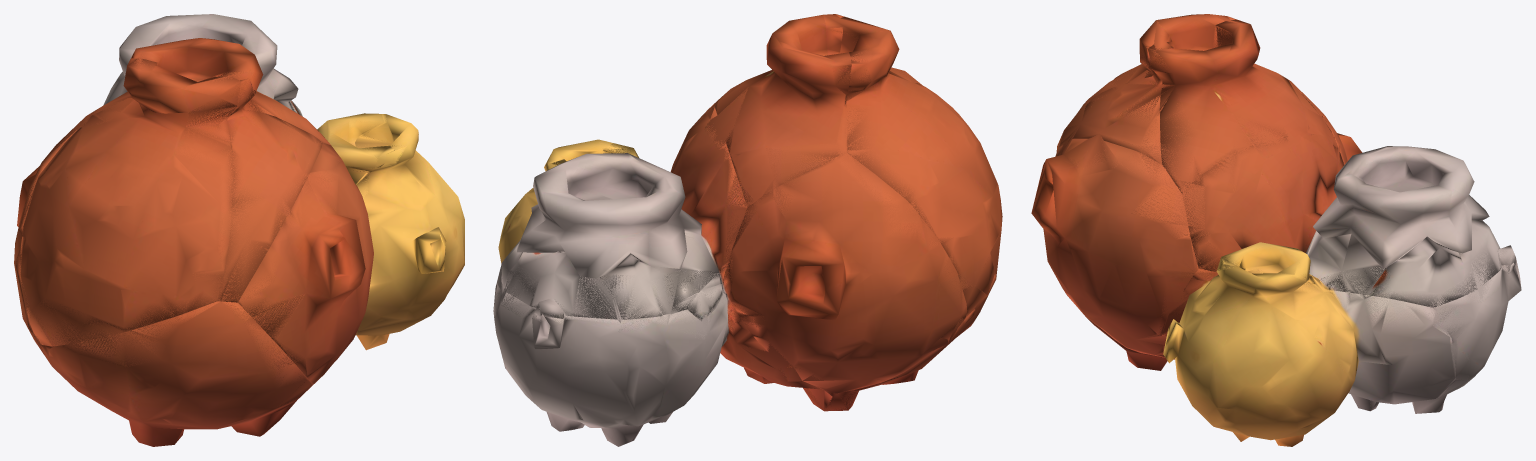
Rendered from cr_pots-CMSFDe7g.glb.
3 views of the same model, side by side, from view 1: azimuth 30°, elevation 25°; view 2: azimuth 150°, elevation 25°; view 3: azimuth 270°, elevation 25° (orthographic). The views are drawn at different scales.
Visible parts, largest first — view 1: frag_0, frag_5, frag_7, whole, frag_8, frag_1, frag_3, frag_4, frag_6; view 2: frag_6, frag_3, frag_2, frag_0, whole, frag_4, frag_8, frag_5; view 3: frag_3, frag_8, frag_7, whole, frag_4, frag_2, frag_1, frag_0, frag_5, frag_6.
Part boxes in pixels (x1=…): frag_0: x1=19, y1=58, x2=240, y2=346; frag_5: x1=41, y1=301, x2=311, y2=446; frag_7: x1=238, y1=142, x2=373, y2=385; whole: x1=14, y1=51, x2=407, y2=406; frag_8: x1=355, y1=114, x2=464, y2=350; frag_1: x1=217, y1=78, x2=322, y2=302; frag_3: x1=103, y1=14, x2=394, y2=184; frag_4: x1=89, y1=38, x2=330, y2=145; frag_6: x1=14, y1=116, x2=86, y2=354; frag_6: x1=687, y1=154, x2=967, y2=394; frag_3: x1=501, y1=104, x2=747, y2=319; frag_2: x1=493, y1=282, x2=833, y2=446; frag_0: x1=840, y1=16, x2=1002, y2=317; whole: x1=493, y1=14, x2=1001, y2=411; frag_4: x1=714, y1=14, x2=851, y2=206; frag_8: x1=493, y1=139, x2=612, y2=368; frag_5: x1=830, y1=274, x2=996, y2=410; frag_3: x1=1184, y1=135, x2=1515, y2=307; frag_8: x1=1162, y1=264, x2=1455, y2=446; frag_7: x1=1031, y1=138, x2=1198, y2=357; whole: x1=1056, y1=14, x2=1516, y2=410; frag_4: x1=1148, y1=19, x2=1337, y2=193; frag_2: x1=1412, y1=262, x2=1521, y2=413; frag_1: x1=1057, y1=46, x2=1162, y2=164; frag_0: x1=1078, y1=14, x2=1236, y2=111; frag_5: x1=1066, y1=294, x2=1167, y2=370; frag_6: x1=1292, y1=82, x2=1362, y2=164.
Bounding box in the file's own units: 1.6 × 1.2 × 1.68.
1 material, 1 textured.
